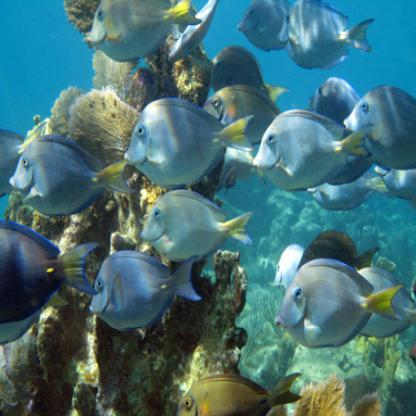surgeon: (269, 255, 407, 352), (124, 93, 260, 186), (6, 131, 136, 216), (84, 246, 204, 333), (252, 110, 376, 193), (139, 190, 250, 262), (84, 1, 195, 71), (335, 76, 416, 170), (279, 1, 376, 73)
